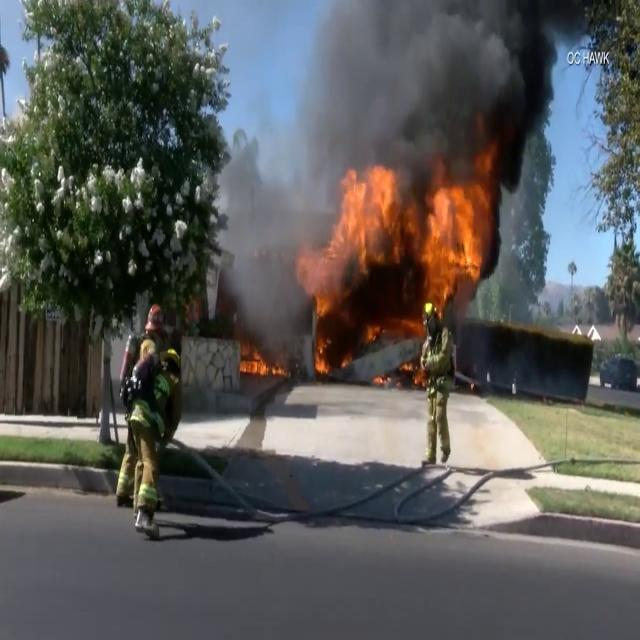Fire: (292, 158, 496, 346)
Smoke: (290, 0, 580, 185)
